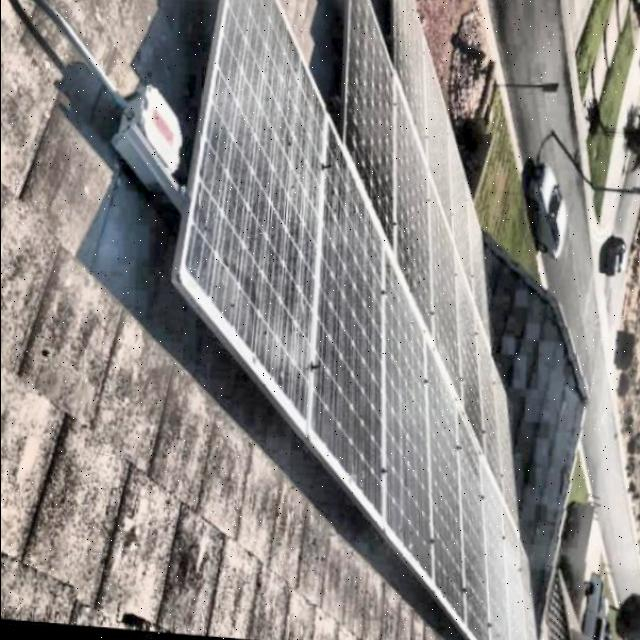Anomaly Solar Panel: (185, 0, 537, 640)
Surface Contaminant: (185, 0, 537, 640)
